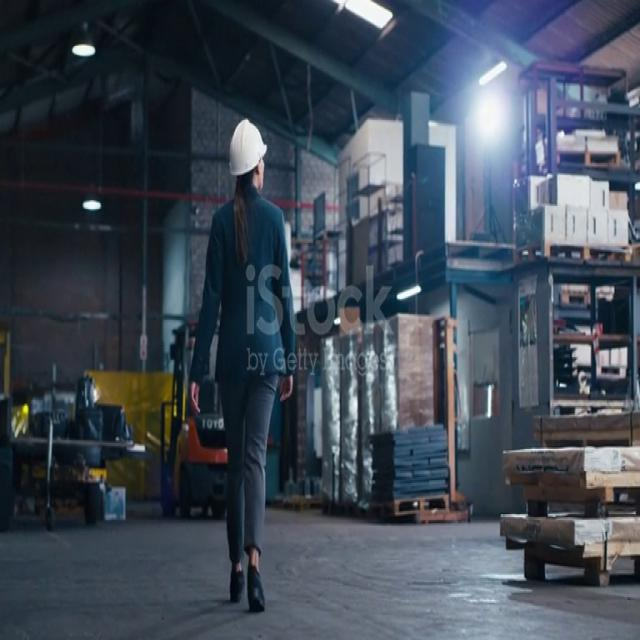capacete: (215, 110, 278, 187)
